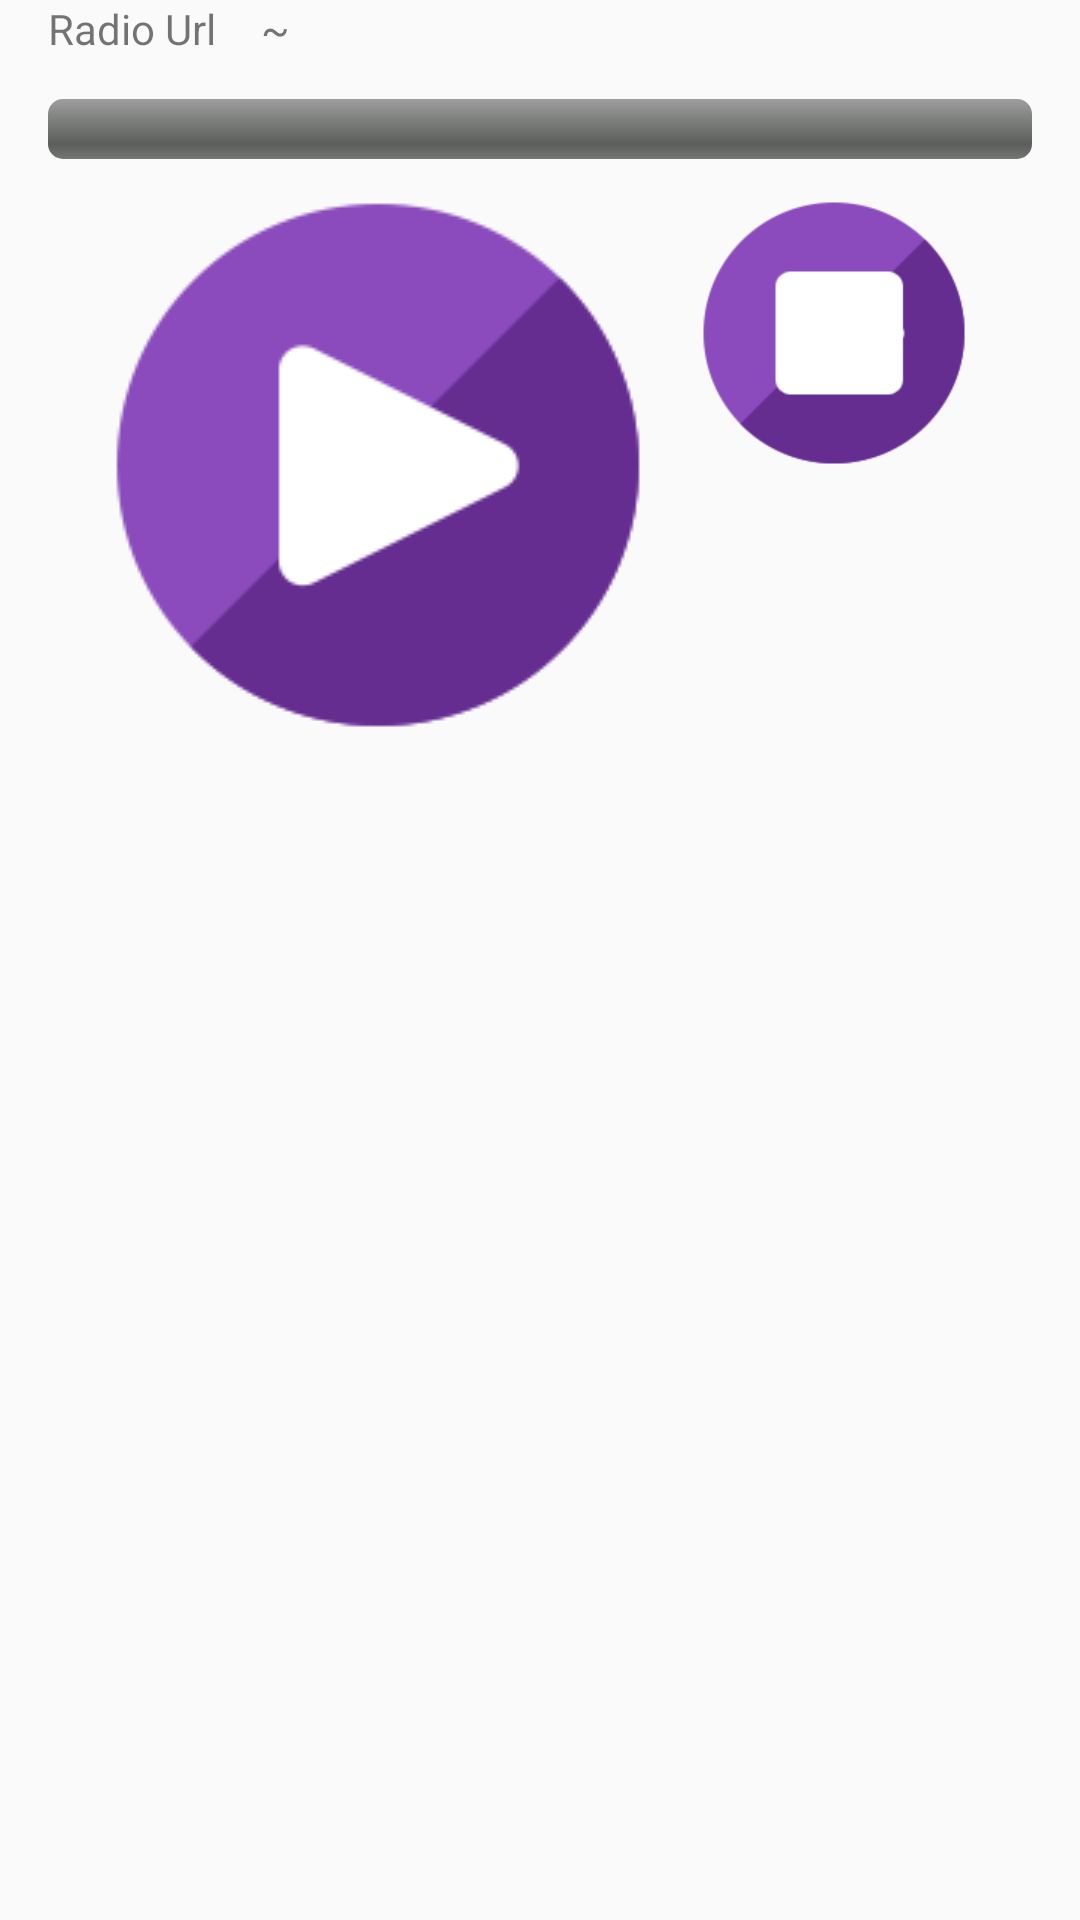

Where to tap for icons on this 1080w x 1920h app screen, as (x=x, y=y):
stop live: (x=834, y=333)
